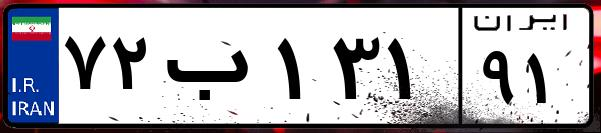1: (270, 28, 330, 110), (385, 28, 445, 110), (525, 38, 570, 115)
2: (110, 28, 158, 98)
3: (330, 28, 385, 110)
7: (57, 26, 110, 100)
9: (475, 38, 525, 113)
ب: (158, 20, 270, 120)
